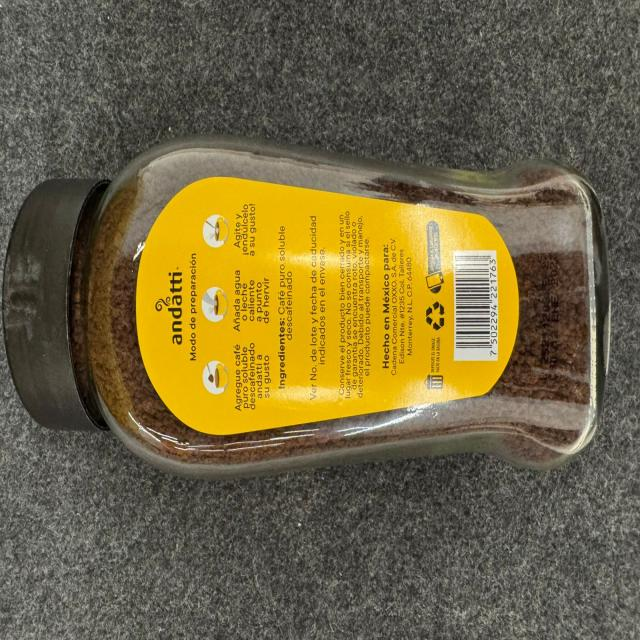CAFE SOLUBLE ANDATTI DESCAFEINADO 275G: (2, 136, 614, 478)
